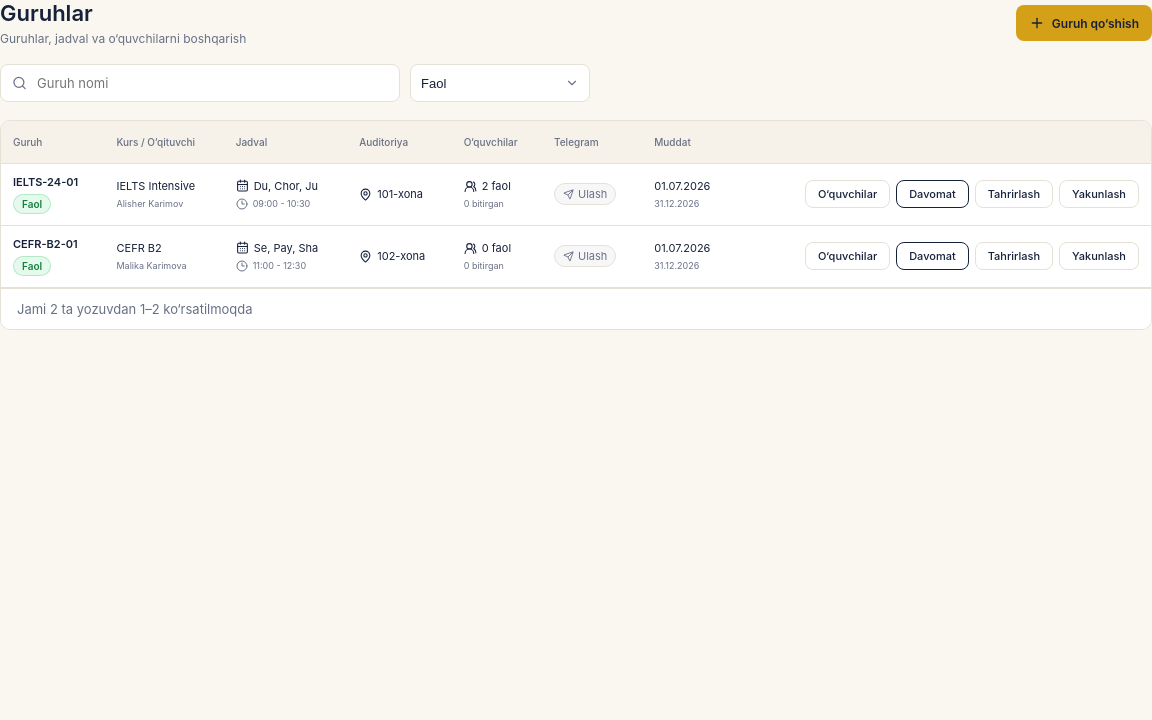
Test case: Senior Pro Client Requirements Verification › Requirement 2 & 3: Guruhlarni bosganda o‘quvchilar chiqishi, davomat olish va o‘quvchi qo‘shish/o‘chirish › clicking on a group in Guruhlar opens the group roster modal with students and Davomat olish button
Expected: the text "IELTS-24-01" is shown, 13,174 -> 78,188
Note: Click on the group row
Click the row "IELTS-24-01": (576, 194) 1,163 -> 1151,225
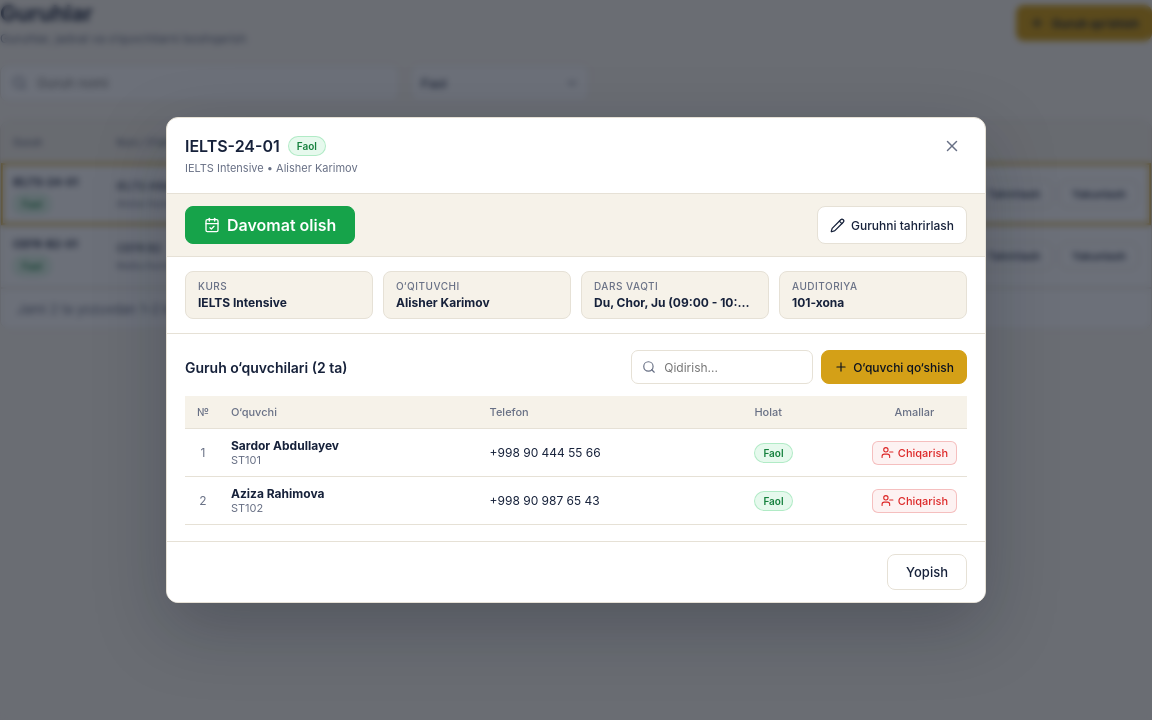
Expected: the heading "IELTS-24-01" is shown, 185,136 -> 280,156
Expected: the text "IELTS Intensive • Alisher Karimov" is shown, 185,161 -> 358,175
Expected: the heading "Guruh o‘quvchilari (2 ta)" is shown, 185,358 -> 348,376
